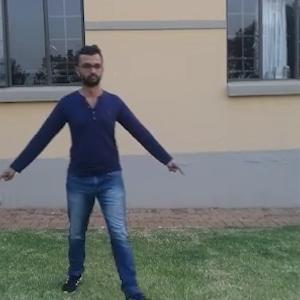land: (5, 46, 166, 284)
